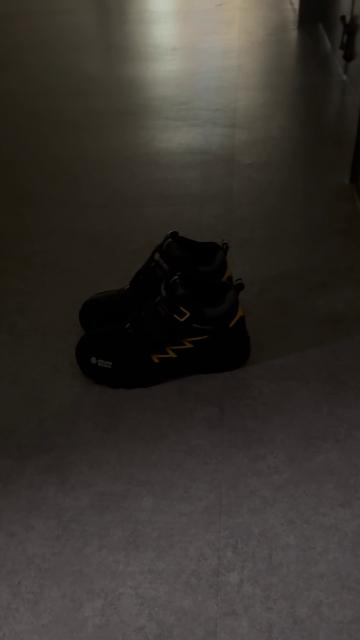shoe_worn: (72, 273, 256, 391), (78, 230, 233, 328)
